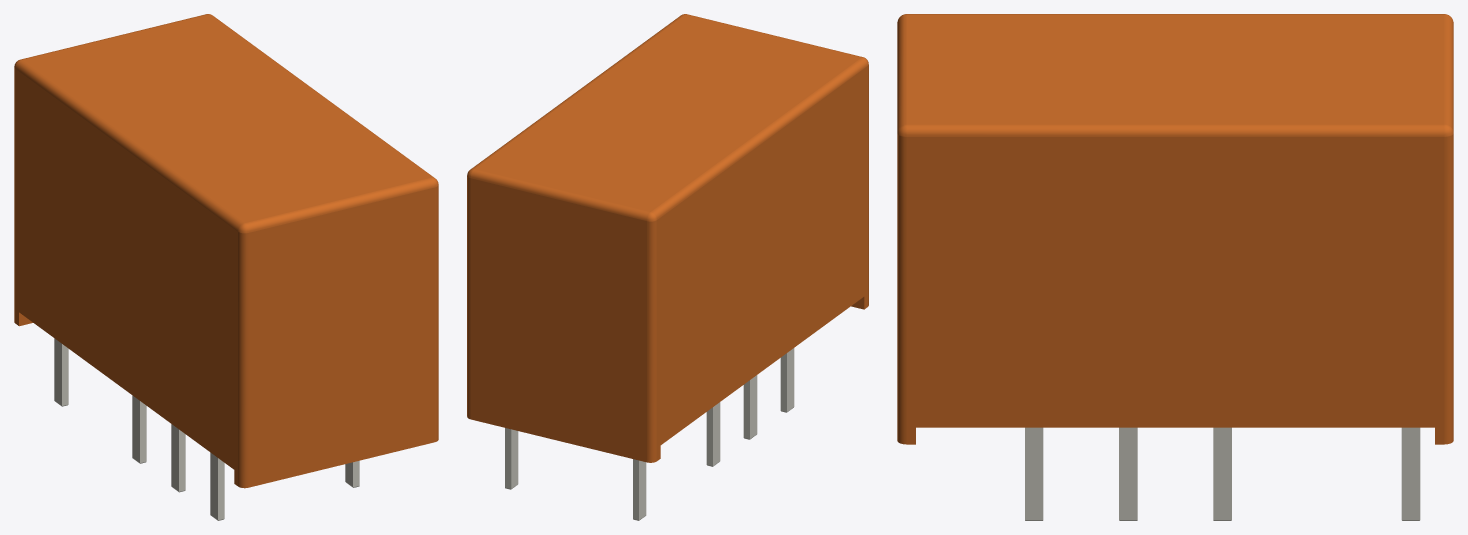
The model's file is kc-relay_dpdt_kemet_ec2_nj.glb.
3 renders of one model, left to right at view 1: azimuth 30°, elevation 25°; view 2: azimuth 150°, elevation 25°; view 3: azimuth 270°, elevation 25°, orthographic. The views are drawn at different scales.
Parts seen in each view (by area): view 1: 0.5833333333333334_0.16666666666666666_0_0, 0.6666666666666666_0.6666666666666666_0.5833333333333334_0.8; view 2: 0.5833333333333334_0.16666666666666666_0_0, 0.6666666666666666_0.6666666666666666_0.5833333333333334_0.8; view 3: 0.5833333333333334_0.16666666666666666_0_0, 0.6666666666666666_0.6666666666666666_0.5833333333333334_0.8.
Part boxes in pixels (box(x1,y1,x2,y2)): 0.5833333333333334_0.16666666666666666_0_0: box(14, 14, 438, 488); 0.6666666666666666_0.6666666666666666_0.5833333333333334_0.8: box(54, 338, 359, 520); 0.5833333333333334_0.16666666666666666_0_0: box(467, 14, 868, 462); 0.6666666666666666_0.6666666666666666_0.5833333333333334_0.8: box(505, 348, 794, 520); 0.5833333333333334_0.16666666666666666_0_0: box(897, 14, 1453, 444); 0.6666666666666666_0.6666666666666666_0.5833333333333334_0.8: box(1025, 427, 1420, 520).
Size of the model in its own units: 0.7501 by 1.22 by 1.5.
